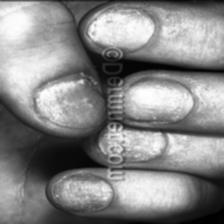Toxin: (31, 78, 105, 126)
